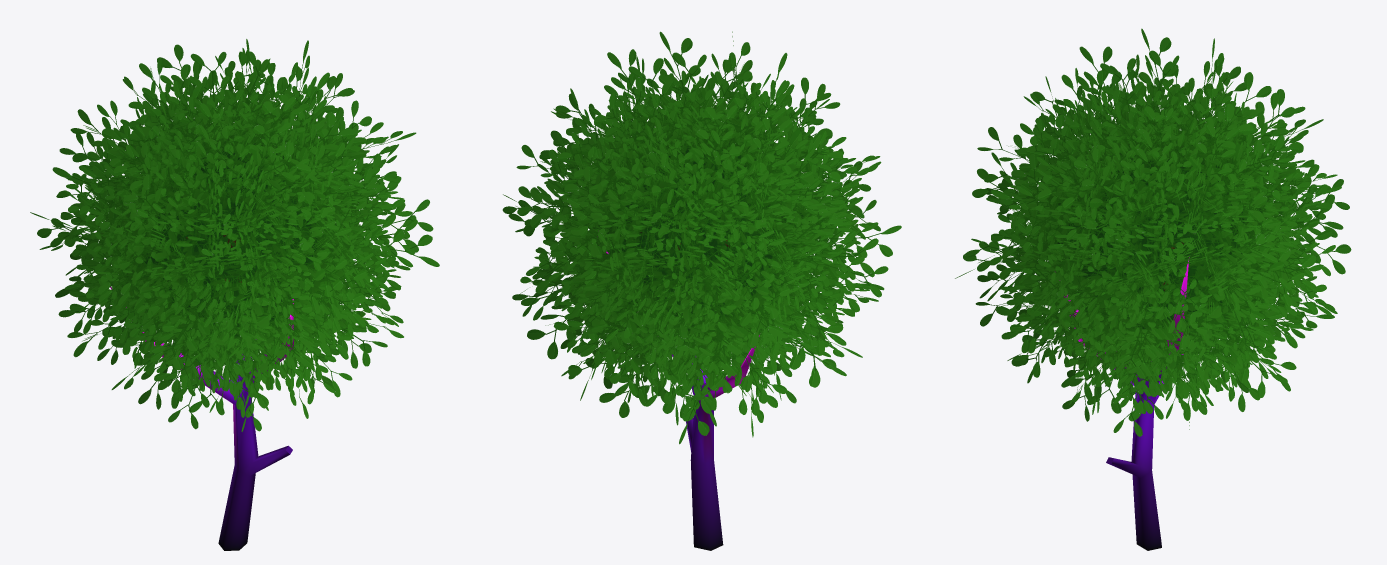
The model's file is PT_Buxus_02.fbx.
The picture shows the model from 3 angles, left to right: view 1: azimuth 30°, elevation 25°; view 2: azimuth 150°, elevation 25°; view 3: azimuth 270°, elevation 25°; orthographic projection.
Visible parts, largest first — view 1: PT_Buxus_02_LOD0; view 2: PT_Buxus_02_LOD0; view 3: PT_Buxus_02_LOD0.
Part boxes in pixels (left/top/right/bottom): PT_Buxus_02_LOD0: left=30, top=39, right=439, bottom=550; PT_Buxus_02_LOD0: left=502, top=31, right=901, bottom=550; PT_Buxus_02_LOD0: left=955, top=28, right=1351, bottom=550.
Size of what is drawn, in the model's own units: 119 by 150 by 119.
